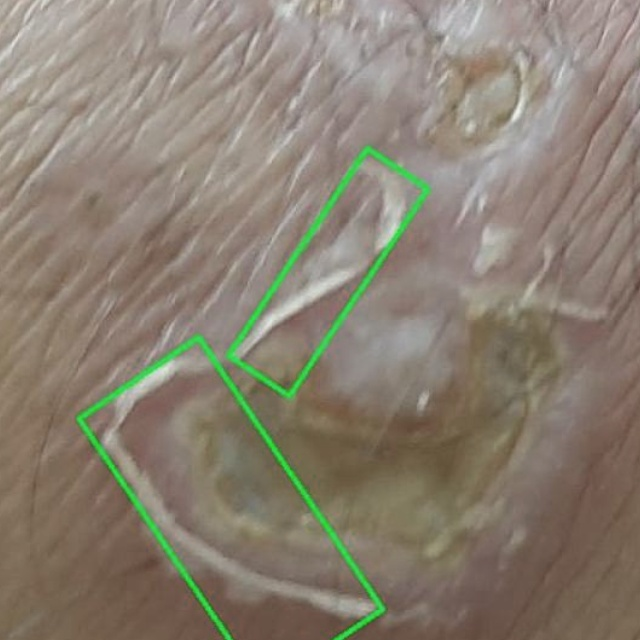Contact Dermatitis: (78, 337, 382, 639), (228, 149, 427, 397)
